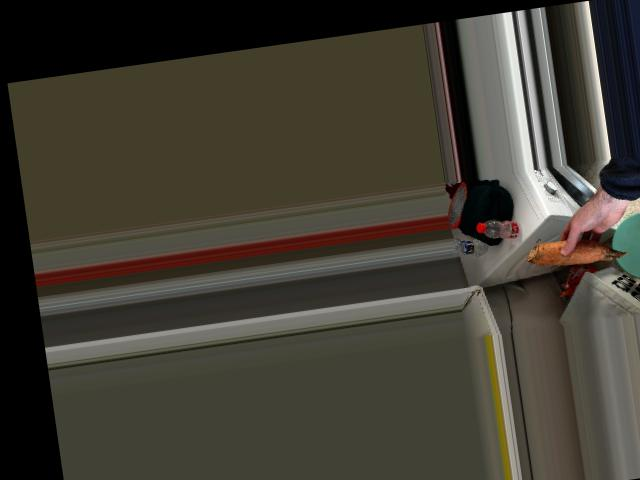sweet_potato: (534, 229, 620, 269)
